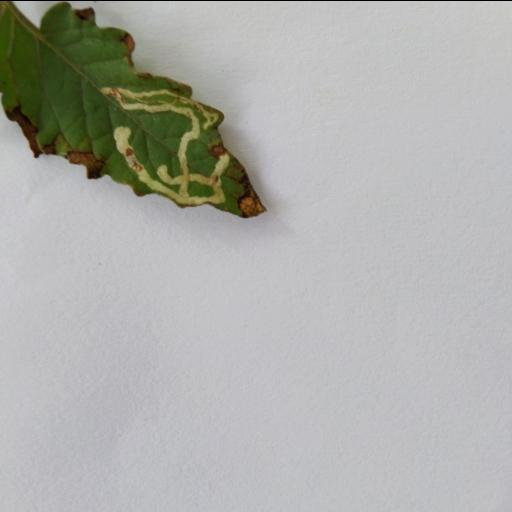Leaf Miner: (0, 0, 271, 220)
